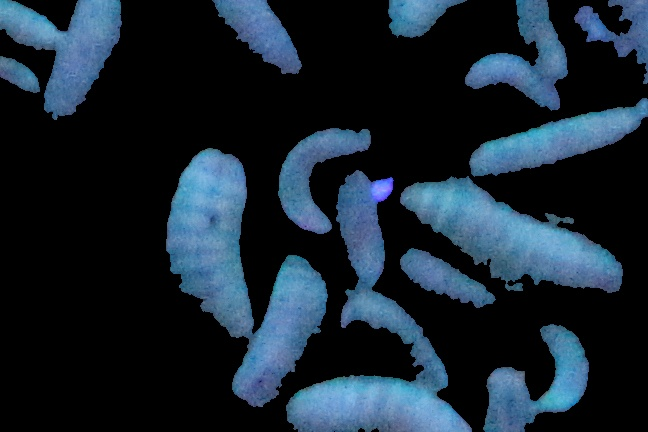larvae: (402, 173, 637, 285), (164, 148, 264, 346), (233, 257, 340, 406), (33, 1, 125, 146), (468, 106, 648, 175), (339, 286, 451, 389), (286, 375, 468, 432), (279, 128, 366, 237), (529, 309, 606, 422), (202, 1, 305, 82), (458, 48, 565, 105), (394, 249, 489, 306), (336, 174, 382, 279), (1, 4, 60, 52)
